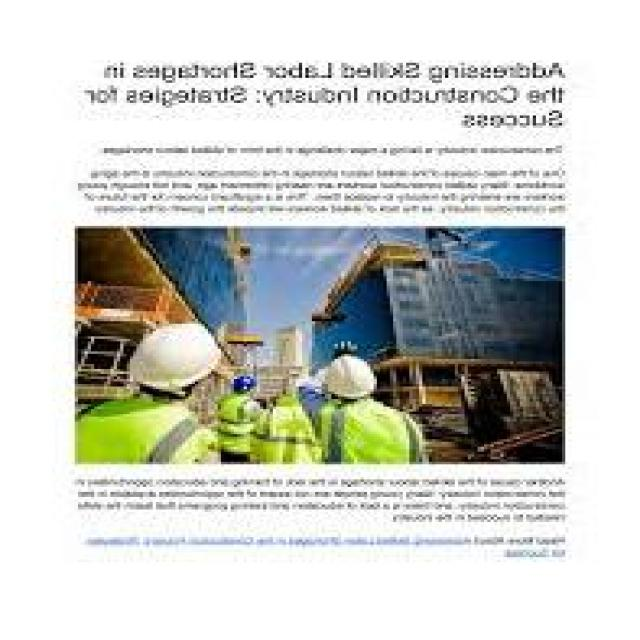Reflective-Jacket: (65, 396, 221, 472), (315, 402, 422, 464), (212, 394, 266, 457)
Safety-Helmet: (124, 318, 228, 396), (315, 352, 383, 402)
